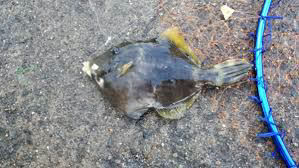kawahagi: (78, 11, 195, 129)
